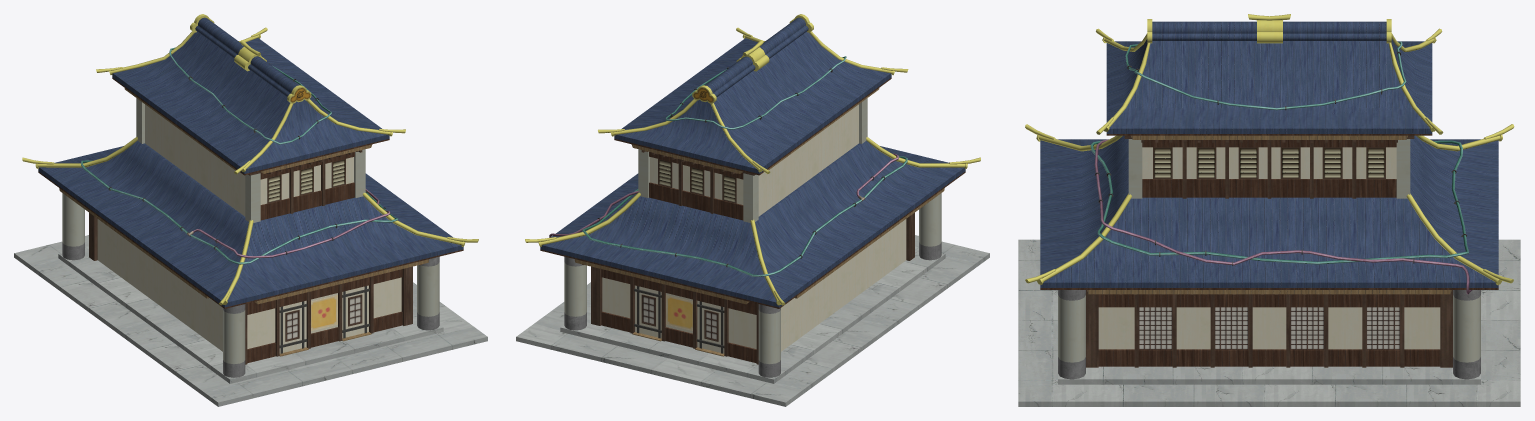
The model's file is SM_ENV_LKNVLD_Building_A.FBX.
3 renders of one model, left to right at view 1: azimuth 30°, elevation 25°; view 2: azimuth 150°, elevation 25°; view 3: azimuth 270°, elevation 25°, orthographic. The views are drawn at different scales.
Visible parts, largest first — view 1: SM_ENV_LKNVLD_Building_A; view 2: SM_ENV_LKNVLD_Building_A; view 3: SM_ENV_LKNVLD_Building_A.
Boxes of the visible parts, x1,y1,x2,y2 form: SM_ENV_LKNVLD_Building_A: (14,14,487,406); SM_ENV_LKNVLD_Building_A: (516,14,989,406); SM_ENV_LKNVLD_Building_A: (1018,14,1520,406).
Bounding box in the file's own units: 1930 × 1730 × 2530.
